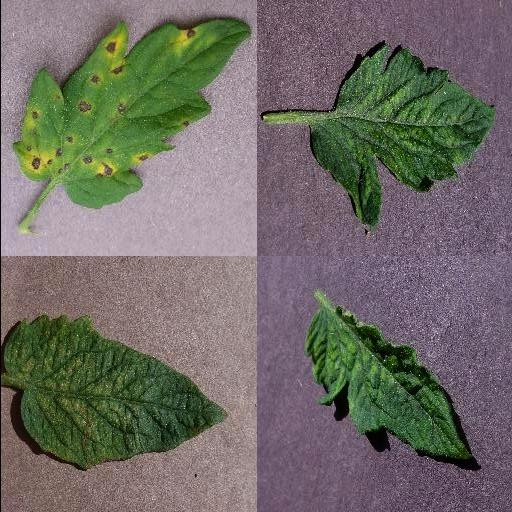Mosaic Virus: (309, 43, 495, 229), (303, 305, 475, 461)
Septoria: (13, 20, 251, 209)
Spider Mites: (0, 314, 228, 468)
